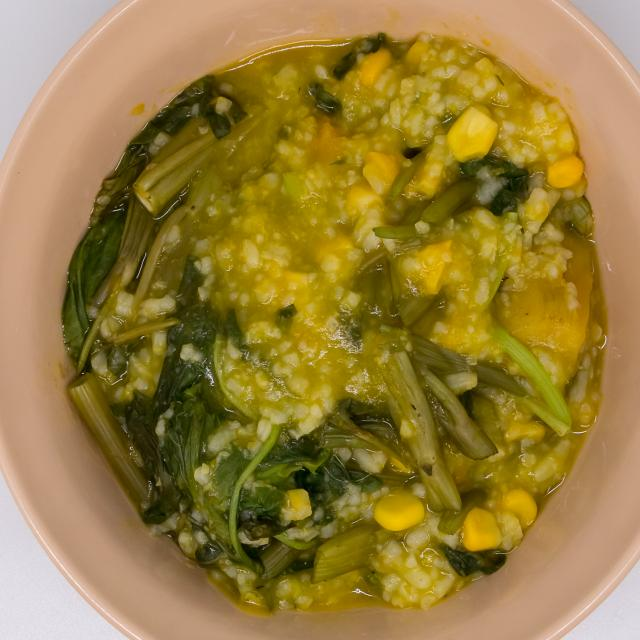Bubur-Manado: (53, 15, 615, 621)
